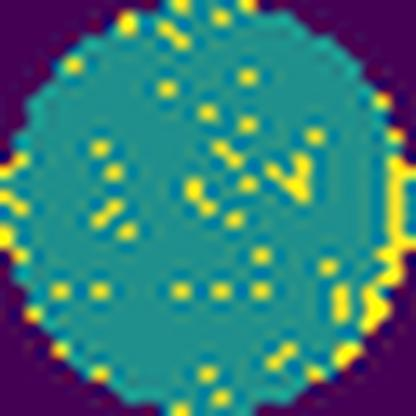Scratch: (354, 151, 416, 339)
